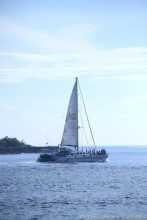fanchuan: (34, 74, 116, 162)
